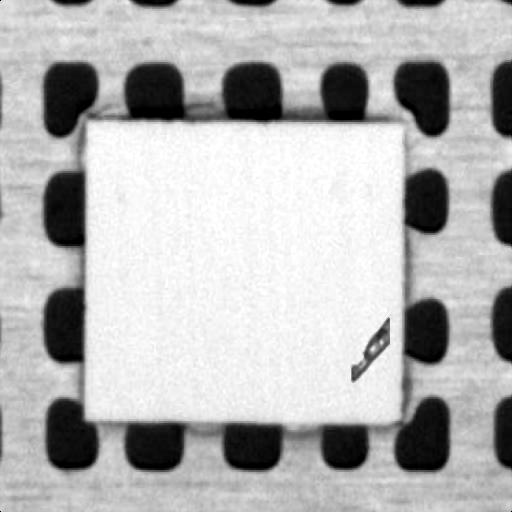DIE_INK: (464, 238, 512, 289)
